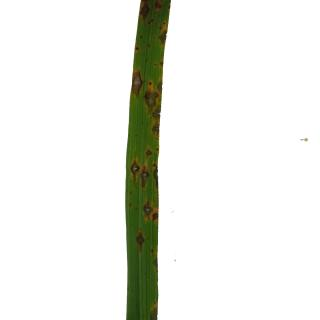Blast: (141, 78, 160, 110), (130, 67, 144, 98), (142, 200, 158, 226), (128, 157, 142, 185), (137, 165, 150, 189), (135, 232, 146, 256), (139, 0, 151, 22), (159, 27, 168, 48), (153, 163, 159, 192), (152, 122, 160, 140), (152, 0, 164, 12), (151, 108, 160, 121), (143, 150, 154, 158)
